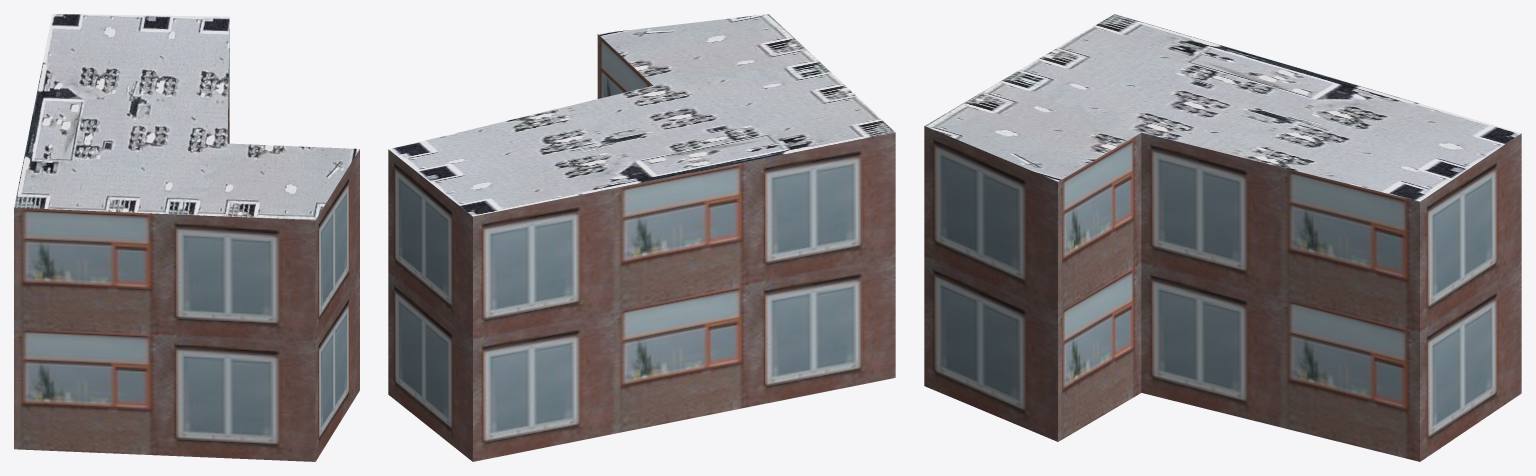
Rendered from ResTex__3279.fbx.
The picture shows the model from 3 angles, left to right: view 1: azimuth 30°, elevation 25°; view 2: azimuth 150°, elevation 25°; view 3: azimuth 270°, elevation 25°; orthographic projection. The views are drawn at different scales.
Visible parts, largest first — view 1: CityEngineMaterial_19_m, CityEngineMaterial_15_m; view 2: CityEngineMaterial_19_m, CityEngineMaterial_15_m; view 3: CityEngineMaterial_19_m, CityEngineMaterial_15_m.
Part boxes in pixels (x1,y1,x2,y2): CityEngineMaterial_19_m: (14, 28, 359, 461); CityEngineMaterial_15_m: (14, 14, 359, 220); CityEngineMaterial_19_m: (388, 34, 895, 461); CityEngineMaterial_15_m: (389, 14, 895, 216); CityEngineMaterial_19_m: (924, 126, 1521, 461); CityEngineMaterial_15_m: (925, 14, 1520, 201).
Bounding box in the file's own units: 9.29 × 6 × 12.48.
Materials: 2 (2 with a texture image).
